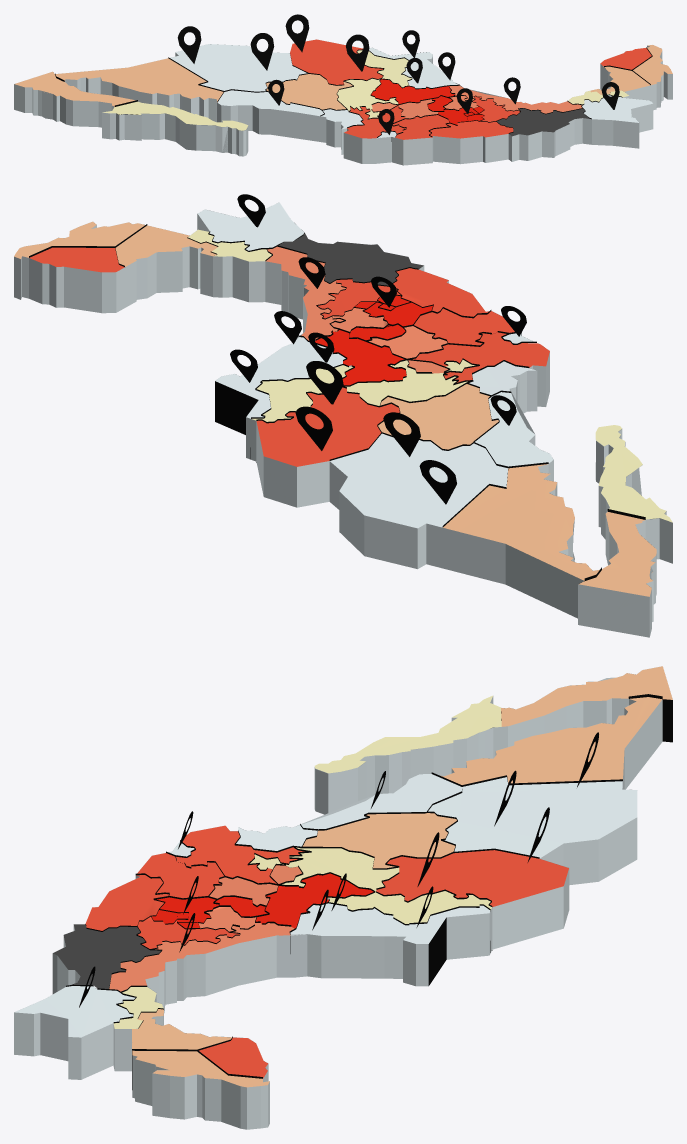
File: Mapa_Pines_F.glb
3 renders of one model, top to bottom at view 1: azimuth 30°, elevation 25°; view 2: azimuth 150°, elevation 25°; view 3: azimuth 270°, elevation 25°, orthographic. The views are drawn at different scales.
Parts seen in each view (by area): view 1: Plane, Circle.004, Circle.010, Circle.012, Circle.001, Circle.003, Circle.007, Circle.005, Circle.002, Circle.011; view 2: Plane, Circle.010, Circle.004, Circle.012, Circle.001; view 3: Plane.
Part boxes in pixels (x1,y1,x2,y2): Plane: (14,39,672,165); Circle.004: (285,14,309,52); Circle.010: (177,26,201,63); Circle.012: (346,34,369,71); Circle.001: (250,33,274,70); Circle.003: (601,82,619,109); Circle.007: (402,30,419,57); Circle.005: (438,52,455,80); Circle.002: (503,77,520,104); Circle.011: (456,88,472,114); Plane: (14,202,672,637); Circle.010: (419,460,456,504); Circle.004: (295,406,332,450); Circle.012: (306,361,343,404); Circle.001: (383,412,420,456); Plane: (14,666,672,1129).
Bounding box in the file's own units: 12.16 × 1.37 × 8.04.
